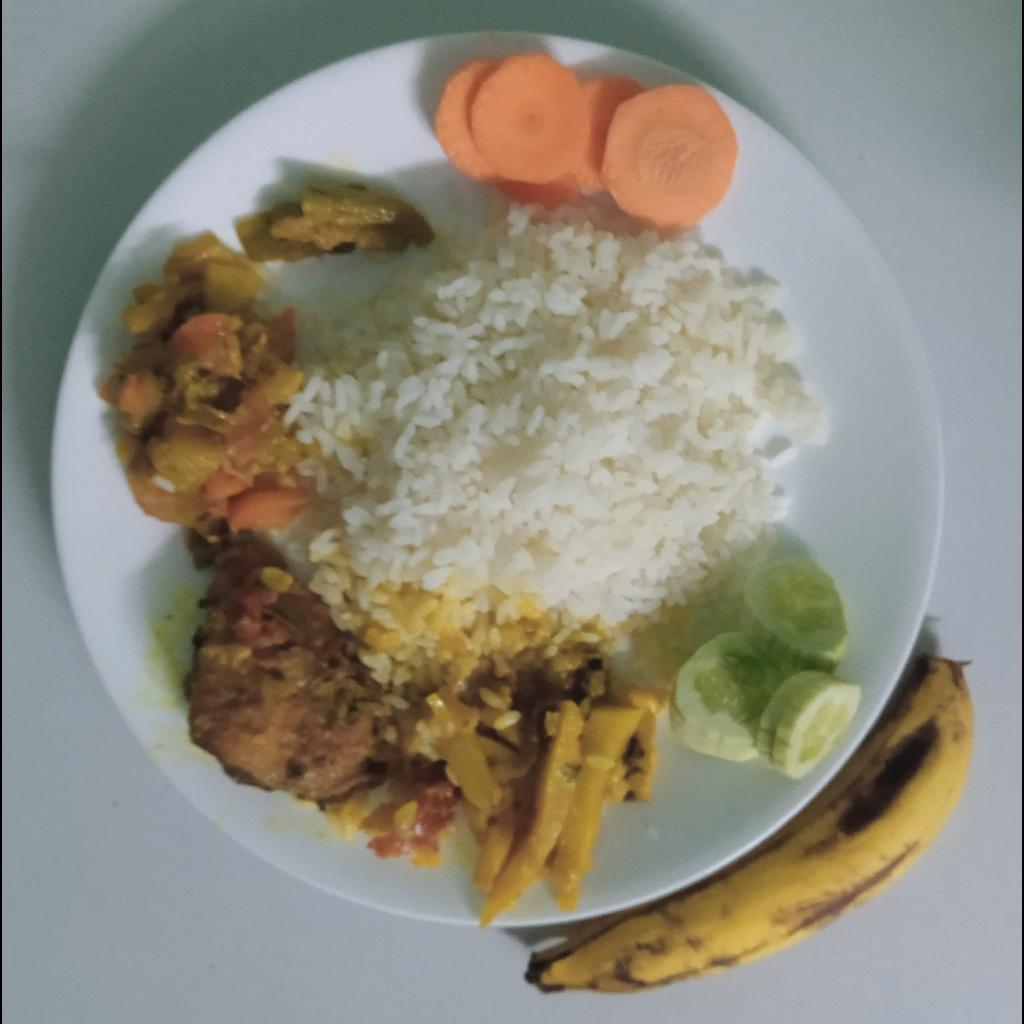banana: (523, 652, 973, 996)
carrot: (435, 53, 739, 233)
cucumber: (667, 555, 867, 783)
fish: (188, 535, 395, 798)
potato: (353, 656, 671, 932)
potol: (236, 183, 435, 263)
rice: (307, 209, 826, 727)
salad: (304, 212, 317, 225)
vegetable: (98, 229, 314, 576)
